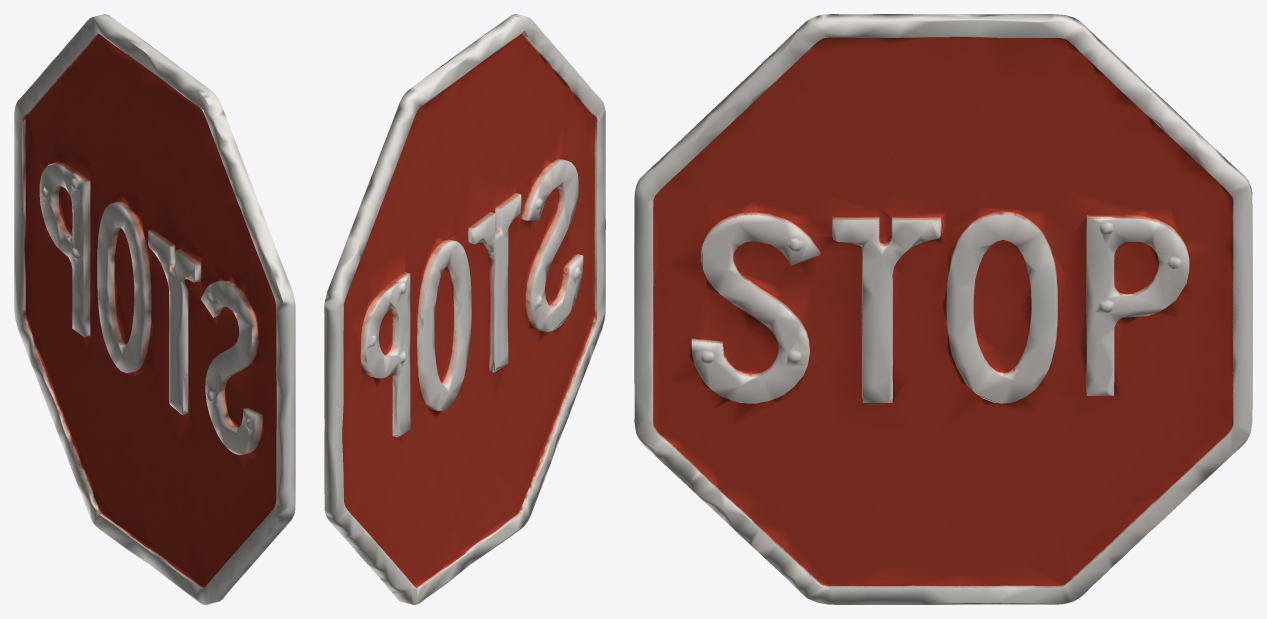
File: tripo-output.glb
3 views of the same model, side by side, from view 1: azimuth 30°, elevation 25°; view 2: azimuth 150°, elevation 25°; view 3: azimuth 270°, elevation 25° (orthographic). The views are drawn at different scales.
Parts seen in each view (by area): view 1: tripo_node_ab87b418-bd8d-4b28-a2c6-a97b1c8e01b7; view 2: tripo_node_ab87b418-bd8d-4b28-a2c6-a97b1c8e01b7; view 3: tripo_node_ab87b418-bd8d-4b28-a2c6-a97b1c8e01b7.
Part boxes in pixels (box(x1,y1,x2,y2)): tripo_node_ab87b418-bd8d-4b28-a2c6-a97b1c8e01b7: box(14, 14, 295, 604); tripo_node_ab87b418-bd8d-4b28-a2c6-a97b1c8e01b7: box(324, 14, 605, 604); tripo_node_ab87b418-bd8d-4b28-a2c6-a97b1c8e01b7: box(634, 14, 1252, 604).
Bounding box in the file's own units: 0.048 × 1 × 0.9585.
Materials: 1 (1 with a texture image).
